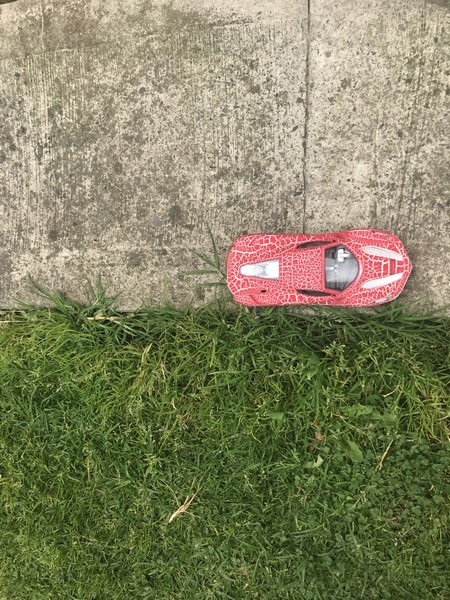RC: (226, 227, 414, 311)
